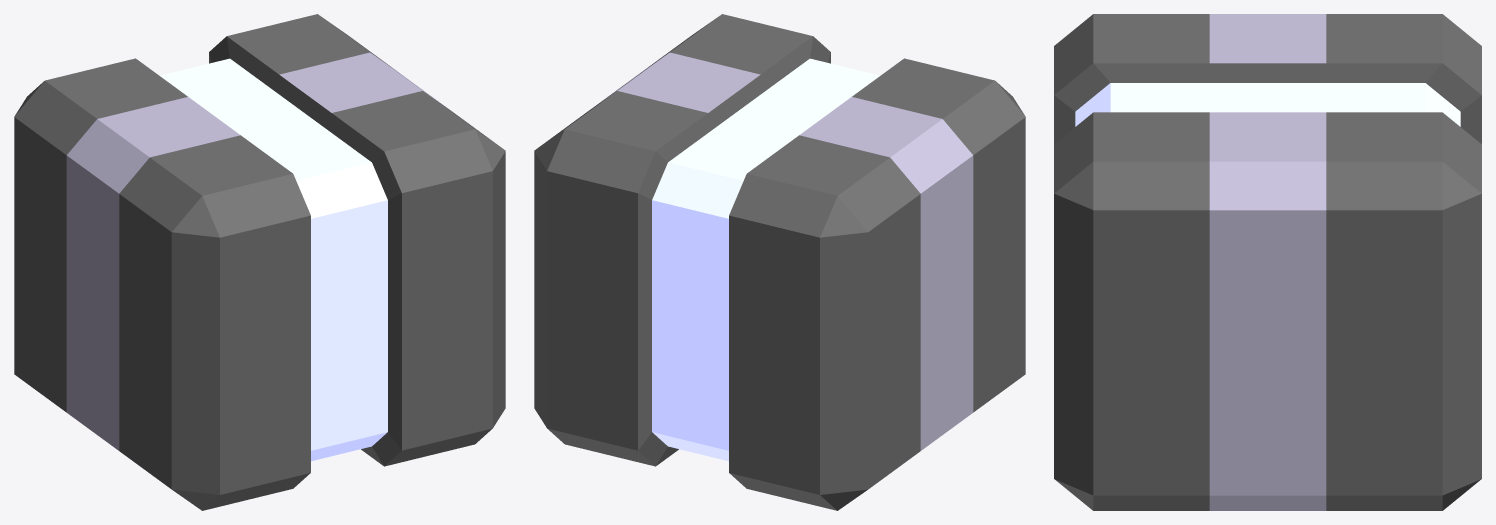
Rendered from misc1.fbx.
3 views of the same model, side by side, from view 1: azimuth 30°, elevation 25°; view 2: azimuth 150°, elevation 25°; view 3: azimuth 270°, elevation 25° (orthographic). The views are drawn at different scales.
Visible parts, largest first — view 1: Cube; view 2: Cube; view 3: Cube.
Part boxes in pixels (x1,y1,x2,y2): Cube: (14,14,505,510); Cube: (534,14,1025,510); Cube: (1054,14,1481,510).
Size of the model in its own units: 200 by 180 by 200.
